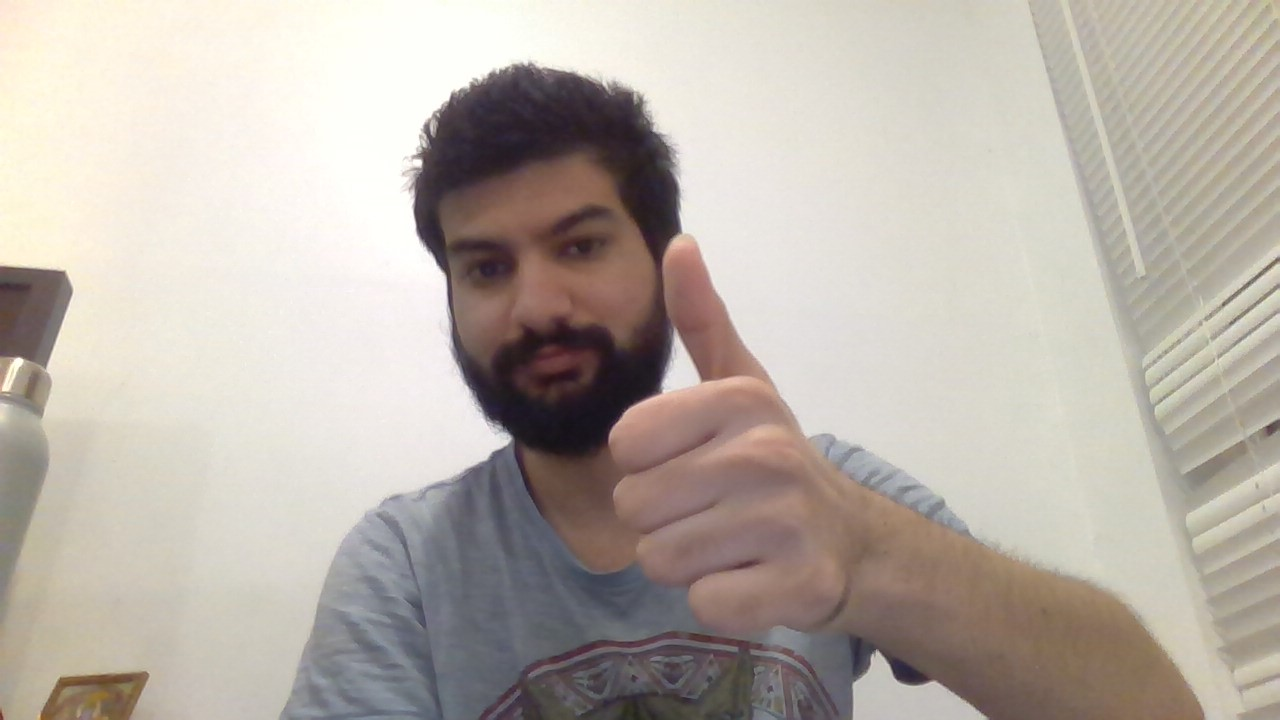up: (596, 217, 850, 649)
